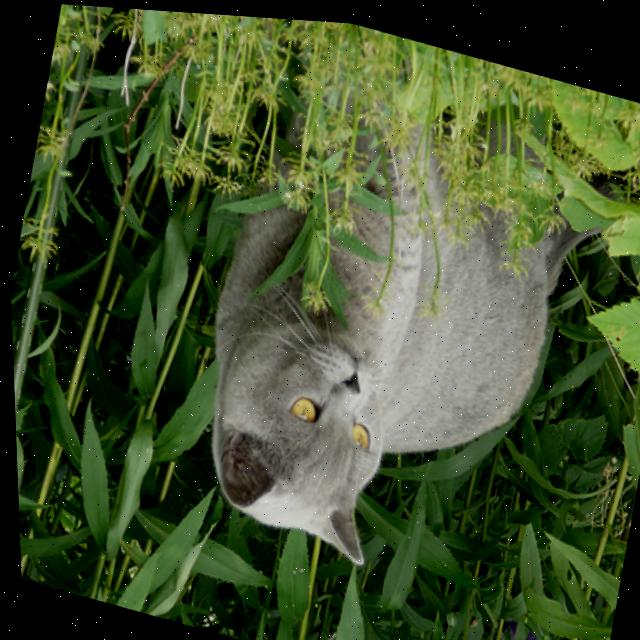British Shorthair: (160, 20, 600, 607)
